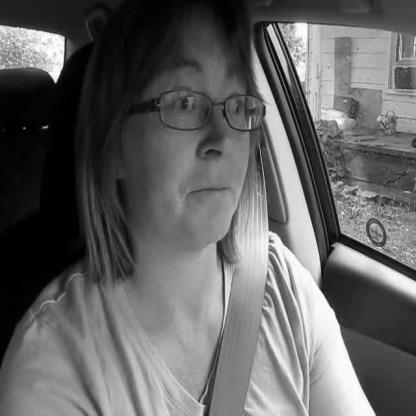seatbelt: (82, 0, 280, 416)
